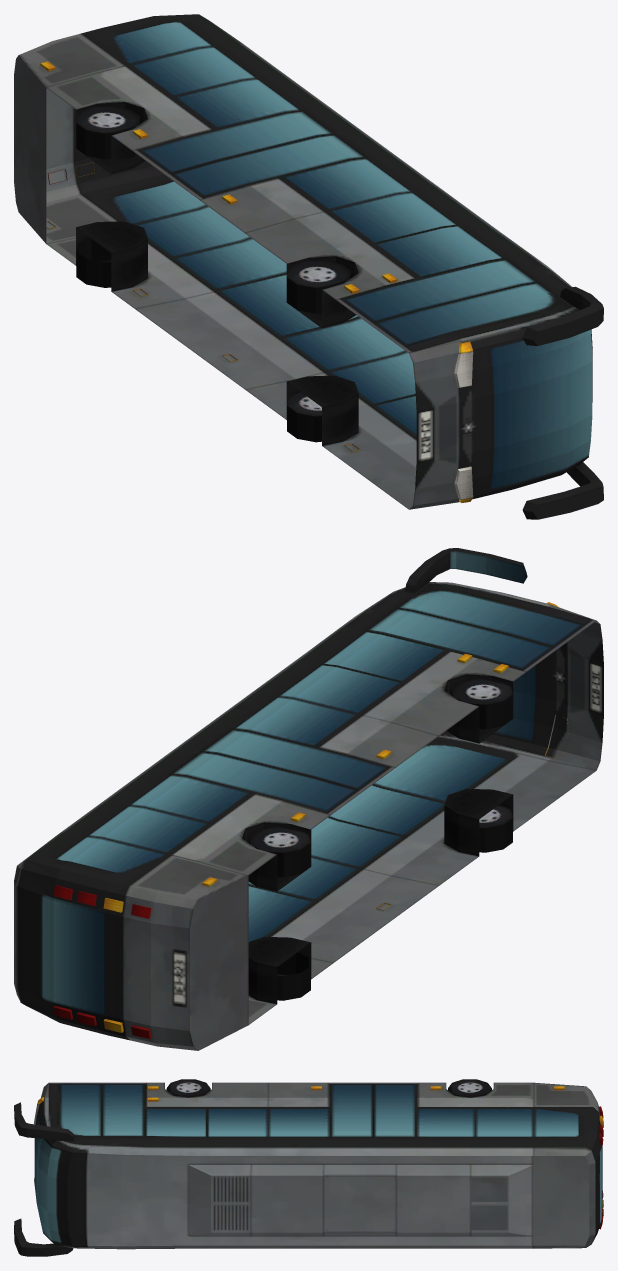
Rendered from bus02_anim.obj.
The picture shows the model from 3 angles, top to bottom: view 1: azimuth 30°, elevation 25°; view 2: azimuth 150°, elevation 25°; view 3: azimuth 270°, elevation 25°; orthographic projection. The views are drawn at different scales.
Visible parts, largest first — view 1: bus02_anim; view 2: bus02_anim; view 3: bus02_anim.
Part boxes in pixels (x1=…): bus02_anim: x1=14, y1=14, x2=603, y2=519; bus02_anim: x1=14, y1=548, x2=603, y2=1050; bus02_anim: x1=14, y1=1079, x2=603, y2=1256.
Size of the model in its own units: 3.67 by 3.06 by 12.46.
1 material, 1 textured.
